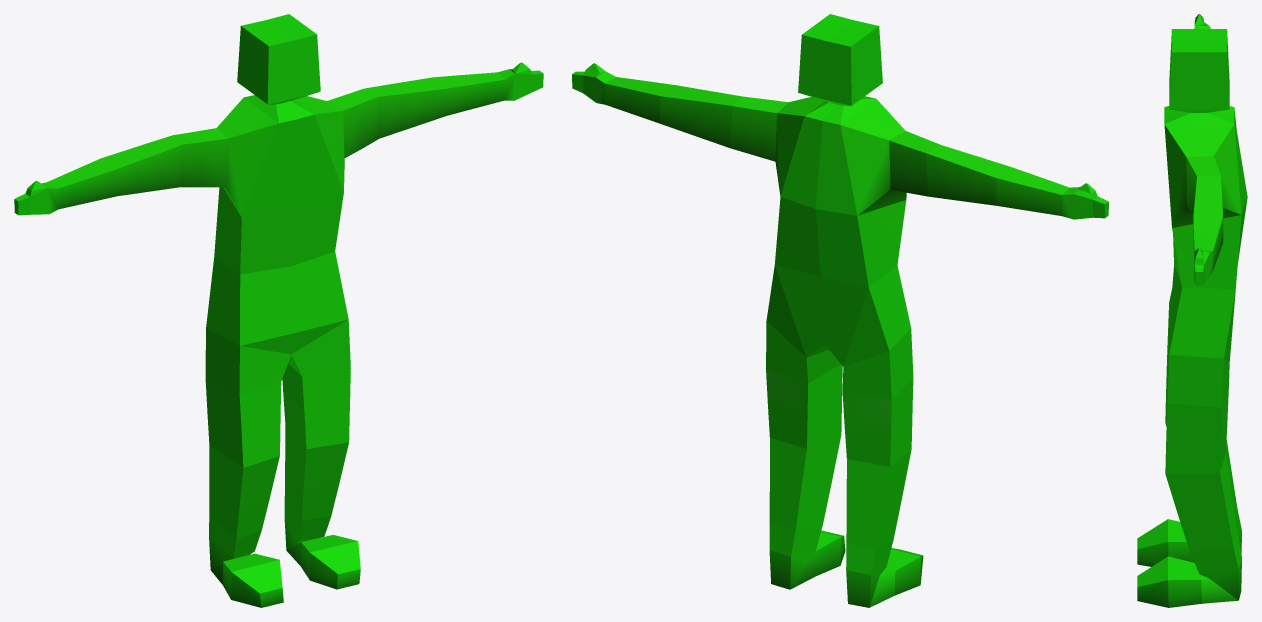
Rendered from human.fbx.
3 renders of one model, left to right at view 1: azimuth 30°, elevation 25°; view 2: azimuth 150°, elevation 25°; view 3: azimuth 270°, elevation 25°, orthographic. The views are drawn at different scales.
Visible parts, largest first — view 1: placeholder_human; view 2: placeholder_human; view 3: placeholder_human.
Part boxes in pixels (bbox=[...]): placeholder_human: bbox=[14, 14, 543, 607]; placeholder_human: bbox=[572, 14, 1108, 607]; placeholder_human: bbox=[1137, 14, 1247, 607].
Size of the model in its own units: 145 by 143 by 26.64.
